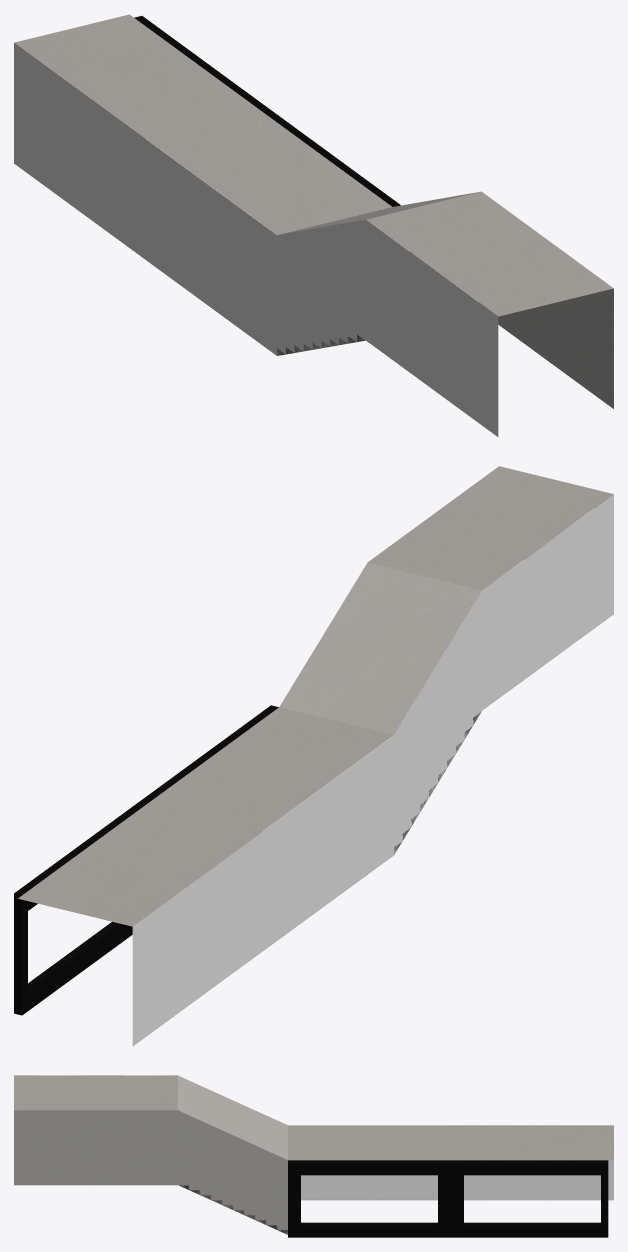
The model's file is wall_room2.fbx.
3 views of the same model, one above another, from view 1: azimuth 30°, elevation 25°; view 2: azimuth 150°, elevation 25°; view 3: azimuth 270°, elevation 25° (orthographic). The views are drawn at different scales.
Visible parts, largest first — view 1: Cube.001; view 2: Cube.001; view 3: Cube.001.
Part boxes in pixels (bbox=[...]): Cube.001: bbox=[14, 14, 613, 436]; Cube.001: bbox=[14, 466, 613, 1046]; Cube.001: bbox=[14, 1075, 613, 1237].
Size of the model in its own units: 321 by 500 by 2179.
Materials: 2 (2 with a texture image).
